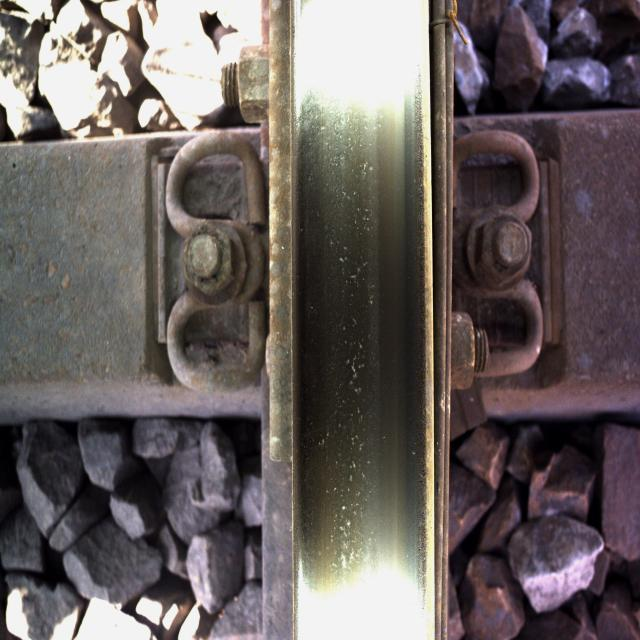normal: (305, 51, 417, 569)
